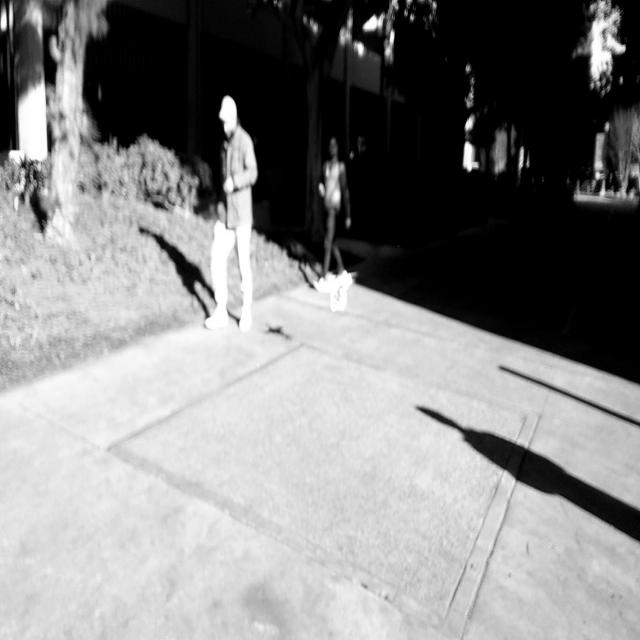drone: (321, 266, 361, 313)
